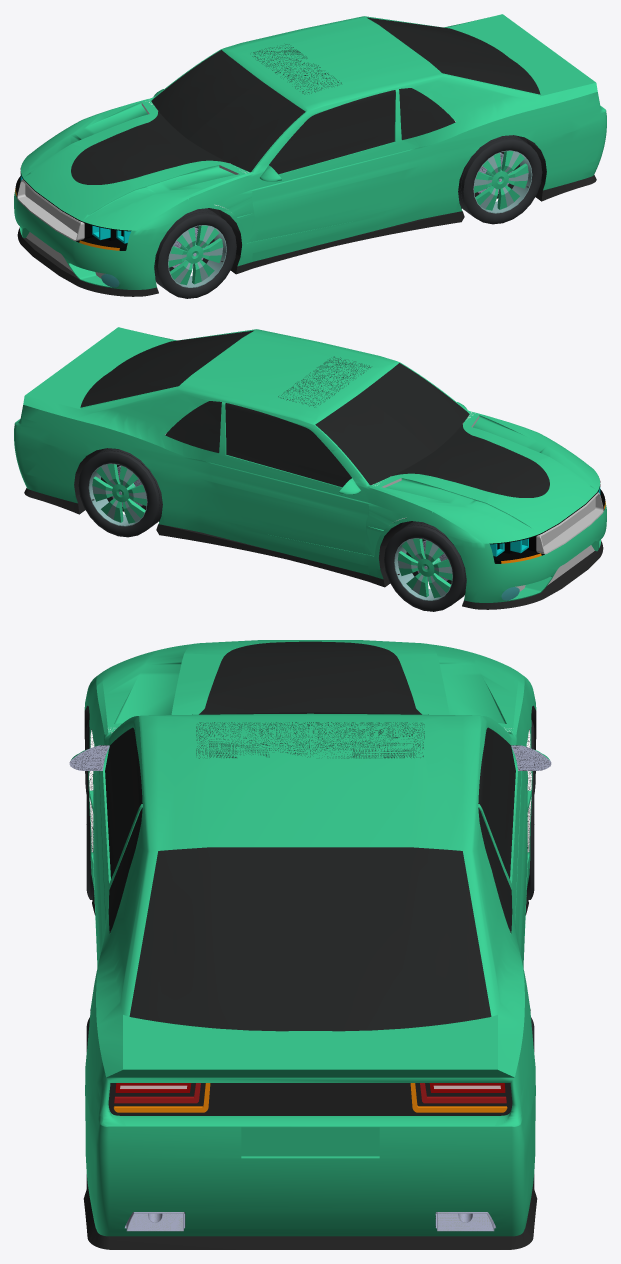
Rendered from Varlog Cugar obj.obj.
3 renders of one model, top to bottom at view 1: azimuth 30°, elevation 25°; view 2: azimuth 150°, elevation 25°; view 3: azimuth 270°, elevation 25°, orthographic. The views are drawn at different scales.
Visible parts, largest first — view 1: Mesh21, Mesh58, Mesh3, Mesh18, Mesh57, Mesh2, Mesh17, Mesh10, Mesh15, Mesh20, Mesh27, Mesh33 (+14 smaller); view 2: Mesh21, Mesh42, Mesh3, Mesh18, Mesh41, Mesh2, Mesh17, Mesh10, Mesh15, Mesh20, Mesh49, Mesh39 (+14 smaller); view 3: Mesh21, Mesh17, Mesh20, Mesh15, Mesh3, Mesh2, Mesh13, Mesh12, Mesh19, Mesh57, Mesh41, Mesh42 (+5 smaller).
Boxes of the visible parts, x1,y1,x2,y2 form: Mesh21: (48, 16, 605, 266); Mesh58: (252, 89, 410, 259); Mesh3: (20, 98, 249, 231); Mesh18: (151, 50, 305, 172); Mesh57: (269, 90, 395, 174); Mesh2: (71, 111, 229, 184); Mesh17: (367, 17, 540, 94); Mesh10: (14, 190, 158, 289); Mesh15: (446, 14, 595, 96); Mesh20: (541, 111, 606, 190); Mesh27: (458, 135, 542, 224); Mesh33: (154, 208, 236, 298); Mesh21: (15, 329, 572, 579); Mesh42: (210, 402, 368, 572); Mesh3: (371, 411, 600, 544); Mesh18: (315, 363, 469, 485); Mesh41: (225, 403, 351, 487); Mesh2: (391, 424, 549, 497); Mesh17: (80, 330, 253, 407); Mesh10: (462, 503, 606, 602); Mesh15: (25, 327, 174, 409); Mesh20: (14, 424, 79, 503); Mesh49: (78, 448, 162, 537); Mesh39: (384, 521, 466, 611); Mesh21: (84, 671, 536, 1228); Mesh17: (129, 847, 491, 1031); Mesh20: (85, 1097, 535, 1236); Mesh15: (123, 1015, 497, 1077); Mesh3: (102, 640, 518, 733); Mesh2: (199, 641, 421, 714); Mesh13: (108, 1083, 512, 1115); Mesh12: (196, 722, 424, 758); Mesh19: (83, 1186, 537, 1249); Mesh57: (105, 727, 142, 878); Mesh41: (478, 727, 515, 878); Mesh42: (478, 746, 527, 967).
Size of the model in its own units: 4.46 by 1.26 by 1.81.
